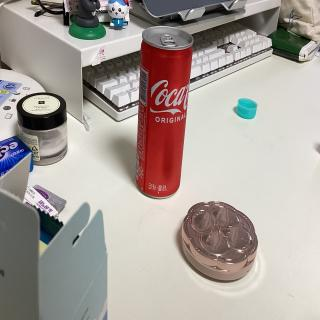cocacola: (137, 22, 194, 199)
